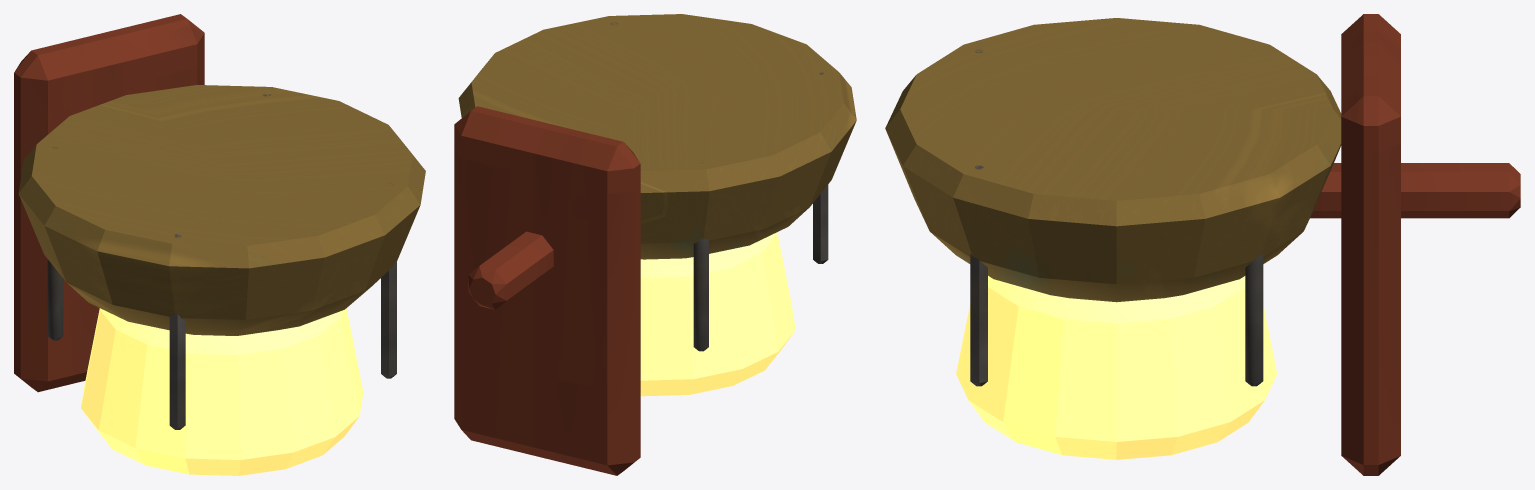
Rendered from WK_LIGHT_LAMP_WALL_A_01.glb.
3 views of the same model, side by side, from view 1: azimuth 30°, elevation 25°; view 2: azimuth 150°, elevation 25°; view 3: azimuth 270°, elevation 25° (orthographic). The views are drawn at different scales.
Visible parts, largest first — view 1: WK_LIGHT_LAMP_WALL_A_01; view 2: WK_LIGHT_LAMP_WALL_A_01; view 3: WK_LIGHT_LAMP_WALL_A_01.
Boxes of the visible parts, x1,y1,x2,y2 form: WK_LIGHT_LAMP_WALL_A_01: [14, 14, 425, 475]; WK_LIGHT_LAMP_WALL_A_01: [454, 14, 856, 475]; WK_LIGHT_LAMP_WALL_A_01: [885, 14, 1520, 475].
Bounding box in the file's own units: 0.3094 × 0.28 × 0.4247.
Materials: 4 (3 with a texture image).
